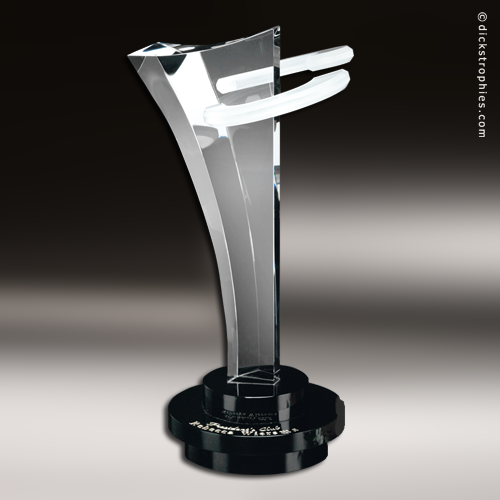trophy: (125, 23, 356, 477)
